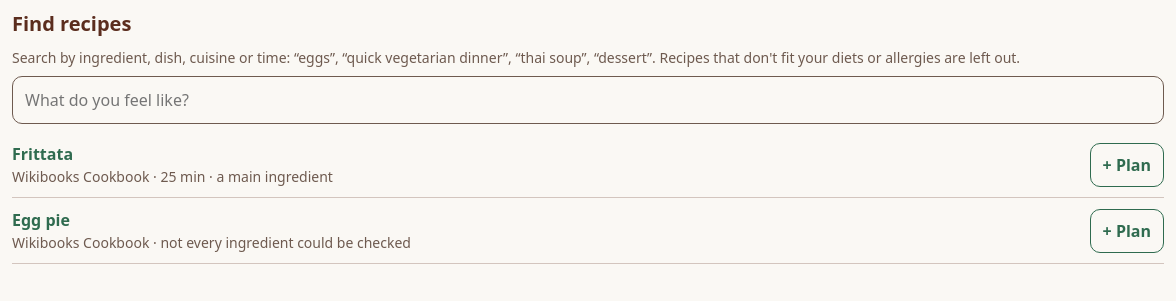
Test: Browse › adds a recipe to this week from the results (TYL-119)
Click the button with aria-label "Add Frittata to this week's plan": (1127, 164) [1090,142,1164,186]
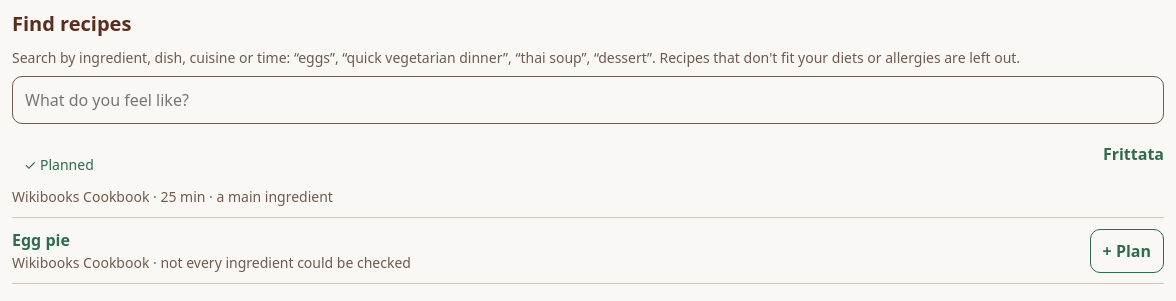
Expected: the message shows "Planned", [24,154,94,174]
